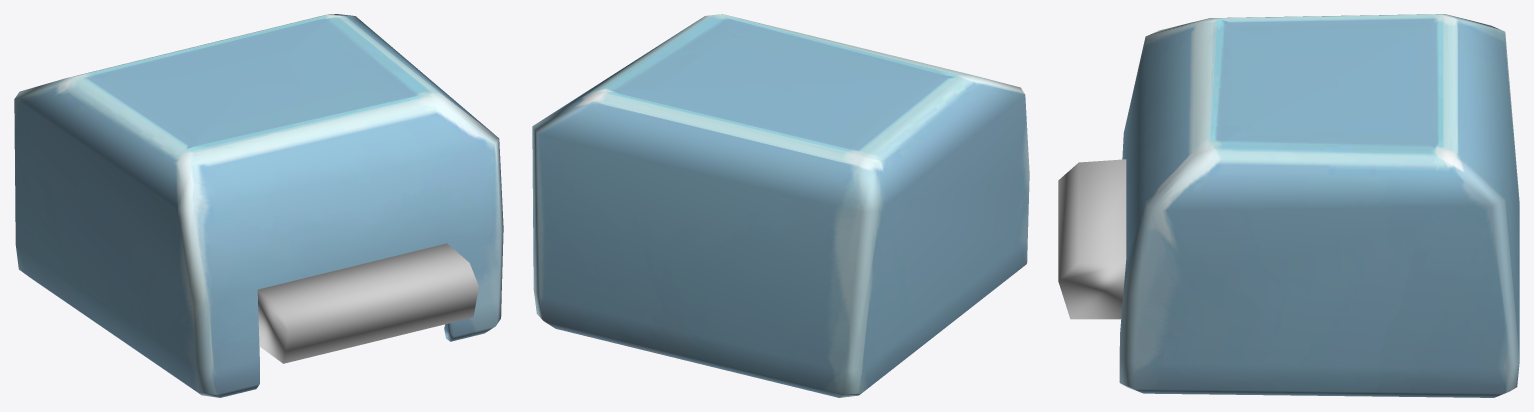
File: Opening_LID.fbx
The picture shows the model from 3 angles, left to right: view 1: azimuth 30°, elevation 25°; view 2: azimuth 150°, elevation 25°; view 3: azimuth 270°, elevation 25°; orthographic projection. The views are drawn at different scales.
Parts seen in each view (by area): view 1: buttonLid, hinge; view 2: buttonLid; view 3: buttonLid, hinge.
Part boxes in pixels (<box>): buttonLid: <box>14,14,503,397</box>; hinge: <box>257,243,478,363</box>; buttonLid: <box>532,14,1029,397</box>; buttonLid: <box>1119,14,1519,397</box>; hinge: <box>1058,159,1126,319</box>.
Size of the model in its own units: 0.1368 by 0.0822 by 0.1475.
